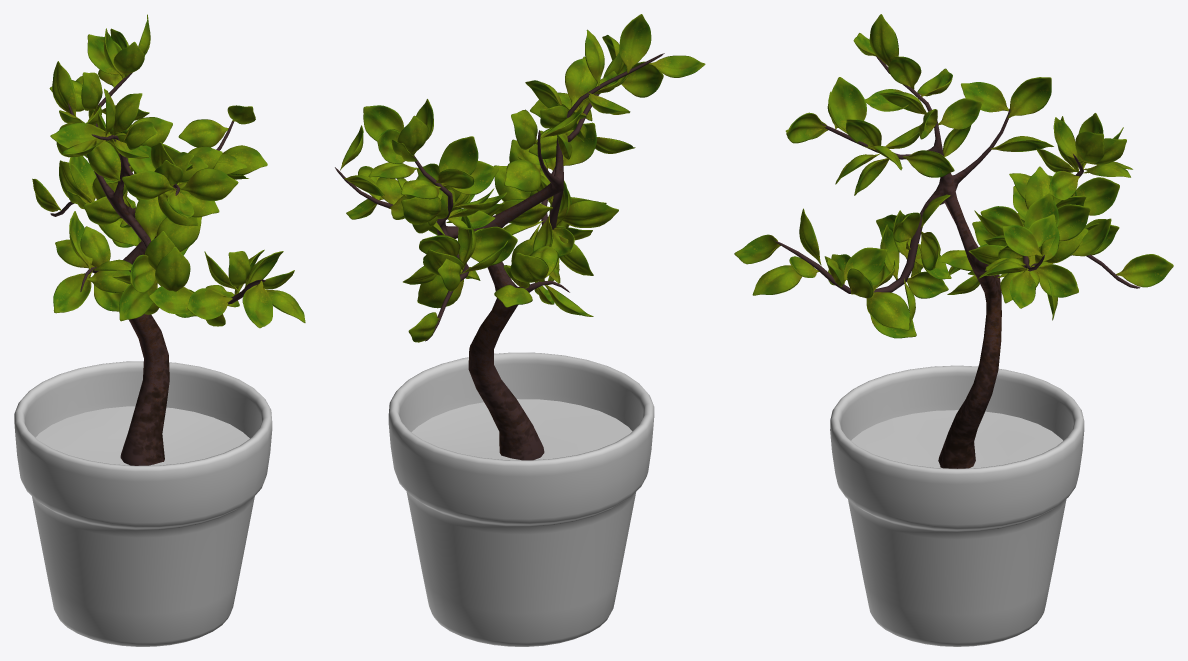
File: TreePot.fbx
3 renders of one model, left to right at view 1: azimuth 30°, elevation 25°; view 2: azimuth 150°, elevation 25°; view 3: azimuth 270°, elevation 25°, orthographic. The views are drawn at different scales.
Parts seen in each view (by area): view 1: defaultMaterial, Bark|Leaf|Dupli|; view 2: defaultMaterial, Bark|Leaf|Dupli|; view 3: defaultMaterial, Bark|Leaf|Dupli|.
Boxes of the visible parts, x1,y1,x2,y2 form: defaultMaterial: (14,361,272,646); Bark|Leaf|Dupli|: (32,14,305,465); defaultMaterial: (388,352,654,646); Bark|Leaf|Dupli|: (335,14,705,460); defaultMaterial: (830,365,1084,646); Bark|Leaf|Dupli|: (734,14,1173,468).
Bounding box in the file's own units: 36.94 × 75.17 × 53.25.
